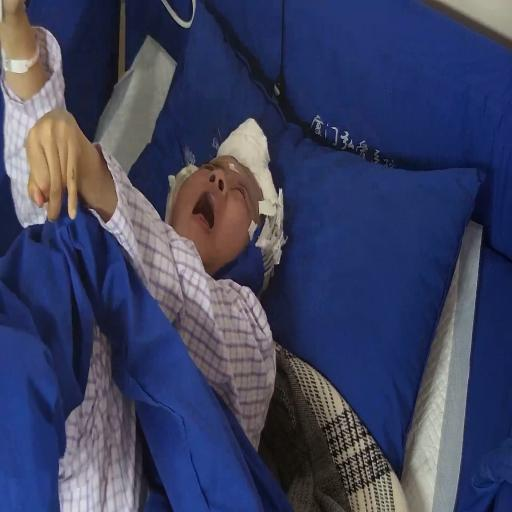Seizure: (169, 129, 270, 274)
